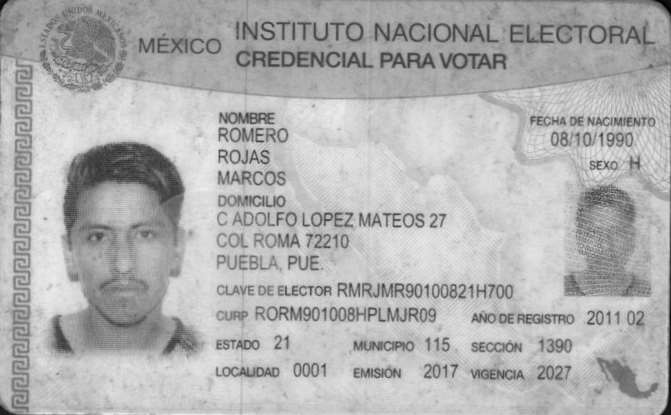ESCUDO: (40, 6, 127, 93)
MAPA: (597, 357, 660, 398)
PALABRA: (510, 24, 657, 45)
